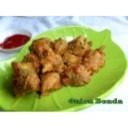bonda: (8, 62, 41, 94), (82, 50, 106, 72), (66, 66, 91, 86), (42, 72, 64, 92), (68, 37, 91, 55), (30, 40, 54, 55)
